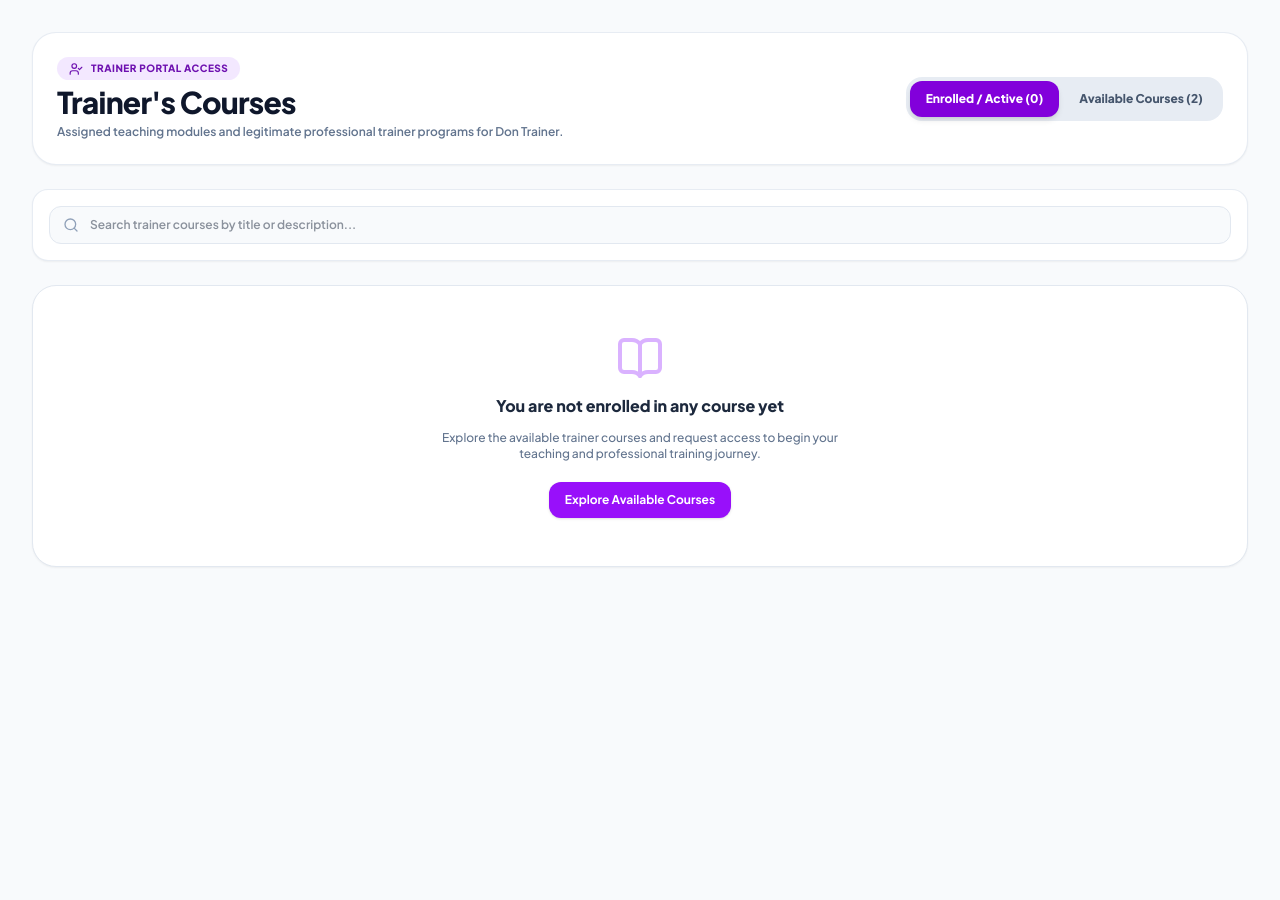
TrainerCoursesPage (Phase 5) › switches to Available tab and displays pending and available courses properly
expect the heading "You are not enrolled in any course yet" is shown: met, box [496,395,784,416]
Note: Click "Explore Available Courses"
Click the button "Explore Available Courses": (640, 500) [549,482,731,518]
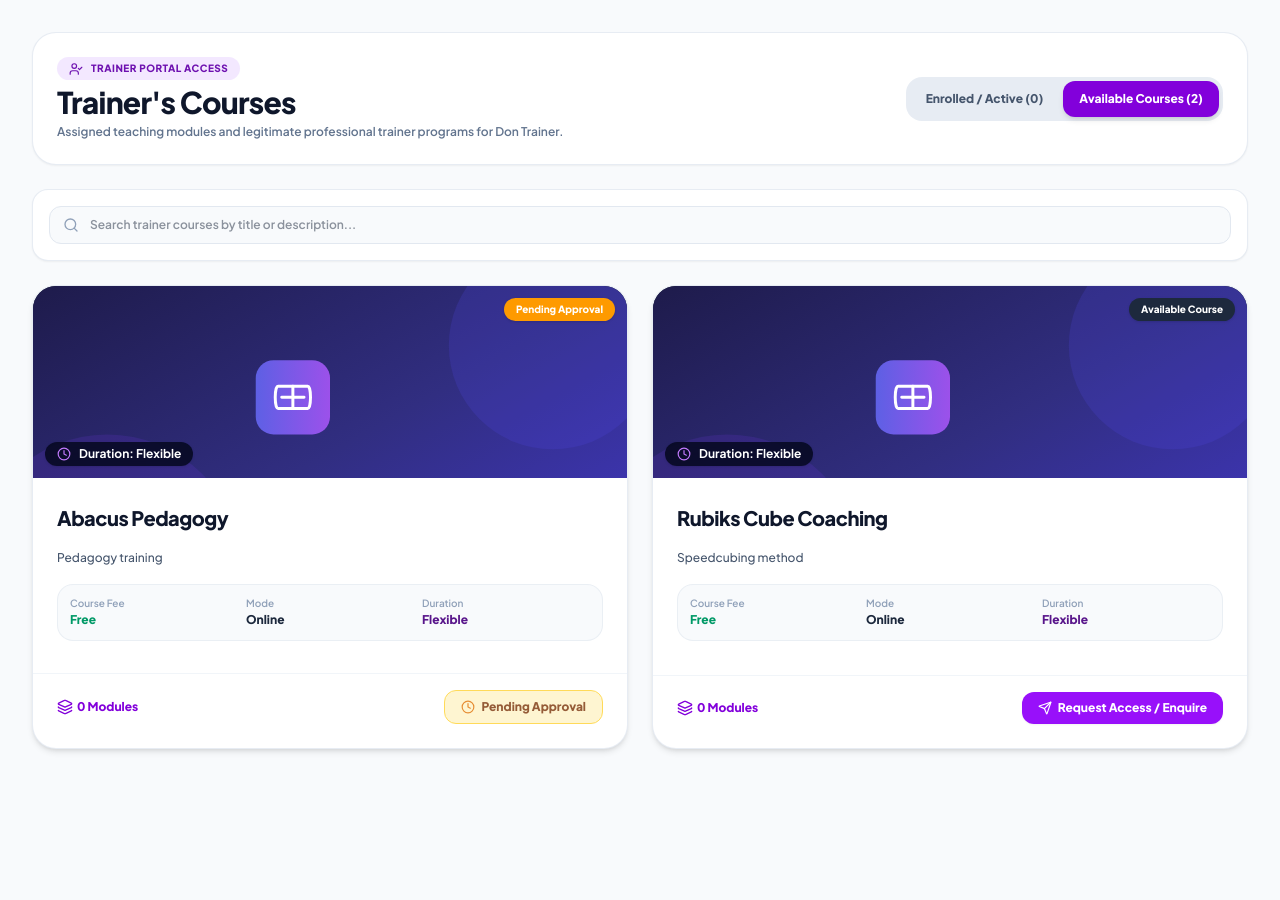
expect the heading "Abacus Pedagogy" is shown: met, box [57,505,228,530]
expect the heading "Rubiks Cube Coaching" is shown: met, box [677,505,888,530]
expect the button "Pending Approval" is disabled: met, box [444,690,603,724]
